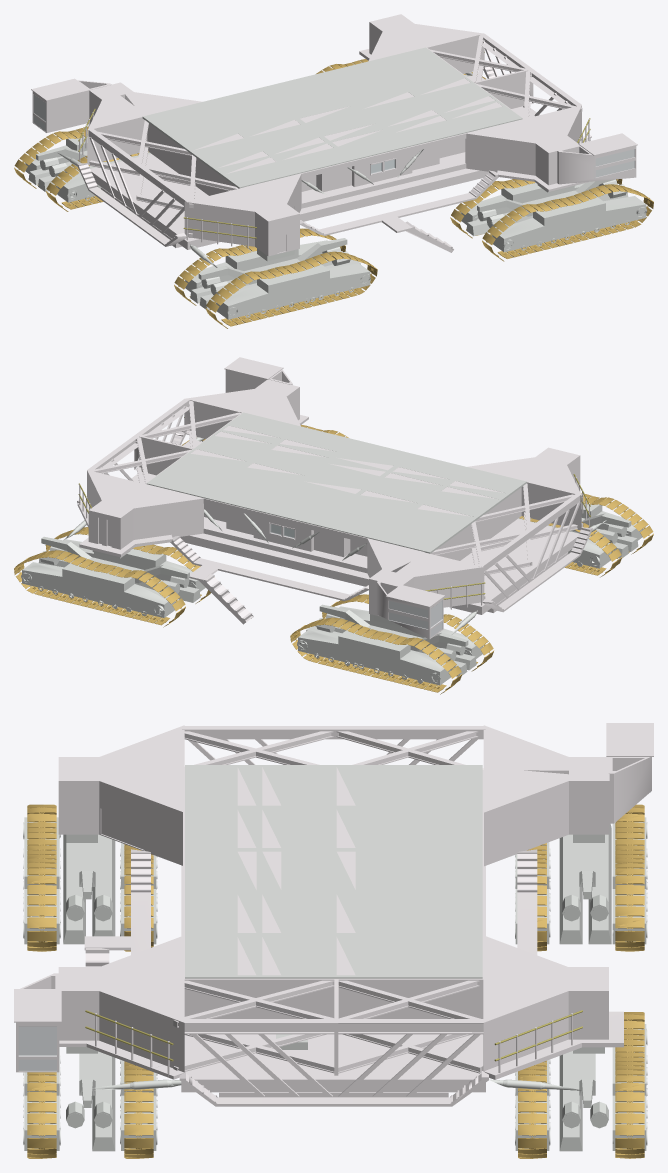
Rendered from space-crawler.glb.
3 views of the same model, one above another, from view 1: azimuth 30°, elevation 25°; view 2: azimuth 150°, elevation 25°; view 3: azimuth 270°, elevation 25° (orthographic). The views are drawn at different scales.
Parts seen in each view (by area): view 1: polySurface1; view 2: polySurface1; view 3: polySurface1.
Boxes of the visible parts, x1=… form: polySurface1: x1=14, y1=14, x2=653, y2=328; polySurface1: x1=14, y1=357, x2=653, y2=694; polySurface1: x1=14, y1=723, x2=653, y2=1158.
Bounding box in the file's own units: 8.77 × 1.7 × 7.2.
Materials: 2 (2 with a texture image).
